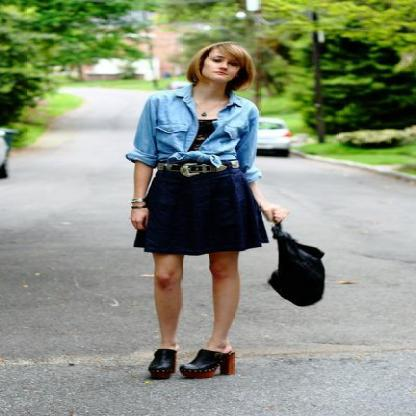bag: (268, 233, 324, 306)
shirt: (126, 81, 261, 167)
shoe: (147, 349, 237, 379)
skirt: (132, 176, 268, 255)
